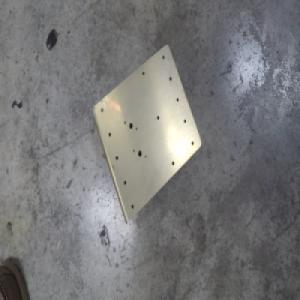MetalSheet: (89, 41, 203, 226)
